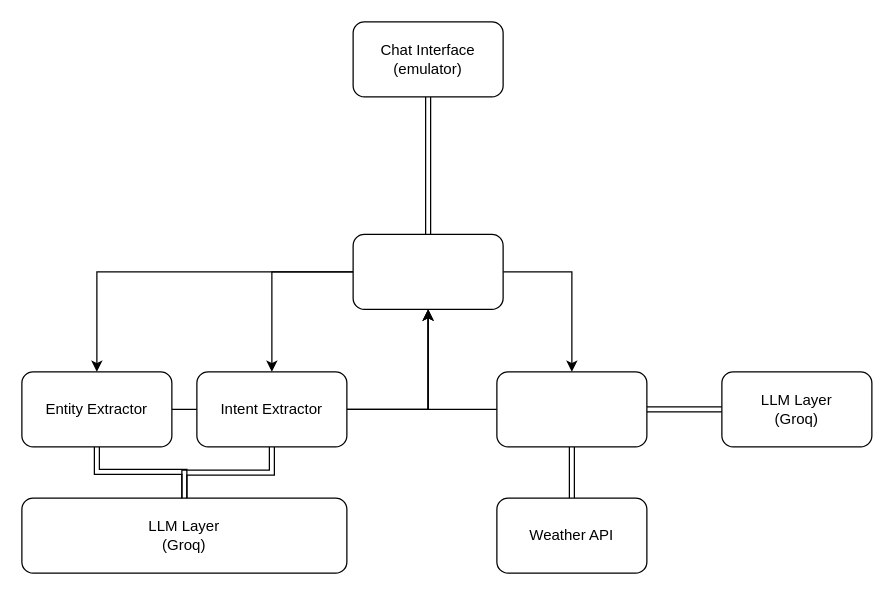
This 894x595 diagram has some shape labels left out. Here are the shapes that lost their labels. From the top down, the box of each, then its label:
(352, 233, 503, 309): Bot
(496, 371, 647, 447): Response Generator
